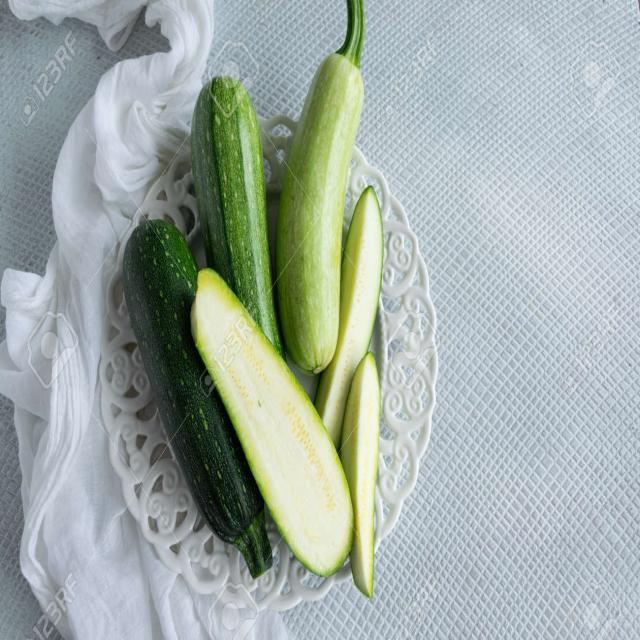Zucchini: (285, 55, 355, 382)
